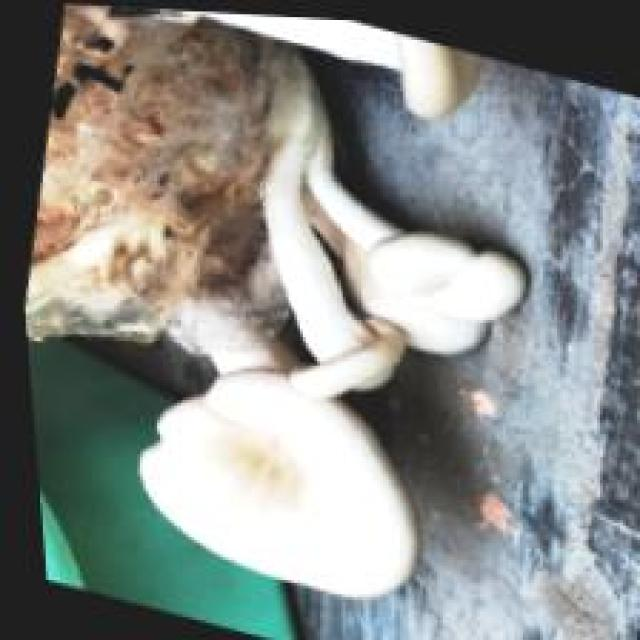chanterelle: (26, 6, 528, 600)
death-cap: (134, 366, 420, 600)
